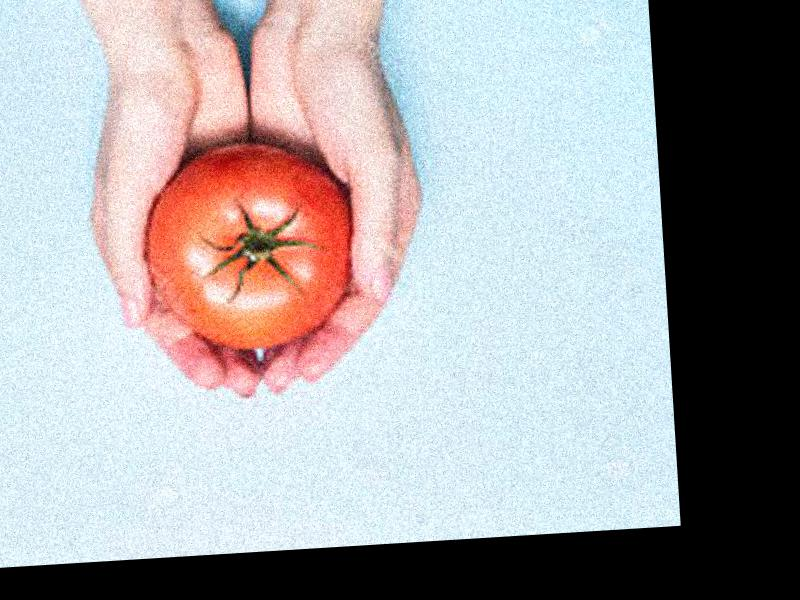Tomato: (140, 138, 363, 354)
